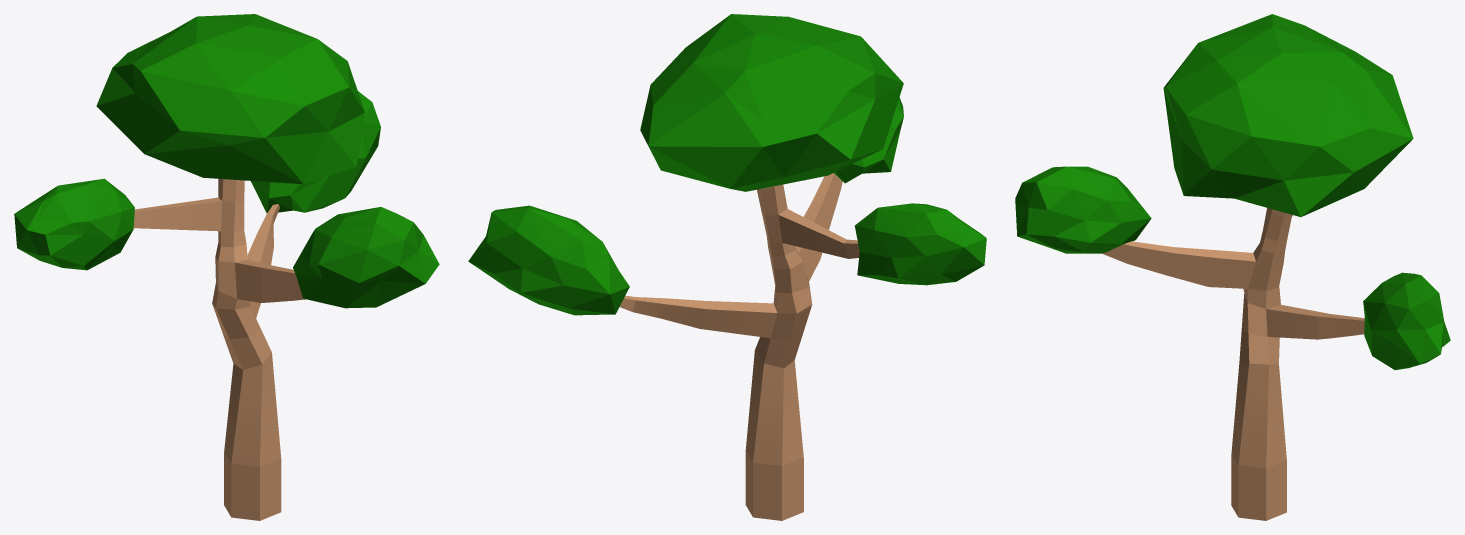
File: GrowingTree.fbx
3 renders of one model, left to right at view 1: azimuth 30°, elevation 25°; view 2: azimuth 150°, elevation 25°; view 3: azimuth 270°, elevation 25°, orthographic. The views are drawn at different scales.
Parts seen in each view (by area): view 1: Icokugel.003, Zylinder, Icokugel.002, Icokugel.001, Icokugel; view 2: Icokugel.003, Zylinder, Icokugel, Icokugel.001, Icokugel.002; view 3: Icokugel.003, Zylinder, Icokugel.002, Icokugel.
Part boxes in pixels (left/top/right/bottom): Icokugel.003: left=96, top=14, right=364, bottom=184; Zylinder: left=133, top=178, right=305, bottom=520; Icokugel.002: left=293, top=207, right=439, bottom=308; Icokugel.001: left=14, top=178, right=134, bottom=270; Icokugel: left=251, top=91, right=380, bottom=213; Icokugel.003: left=640, top=14, right=903, bottom=191; Zylinder: left=619, top=173, right=859, bottom=520; Icokugel: left=468, top=205, right=629, bottom=315; Icokugel.001: left=854, top=203, right=986, bottom=285; Icokugel.002: left=834, top=97, right=903, bottom=183; Icokugel.003: left=1163, top=14, right=1413, bottom=217; Zylinder: left=1101, top=208, right=1364, bottom=520; Icokugel.002: left=1015, top=166, right=1151, bottom=253; Icokugel: left=1363, top=272, right=1450, bottom=369.
Size of the model in its own units: 6.27 by 6.6 by 5.67.
